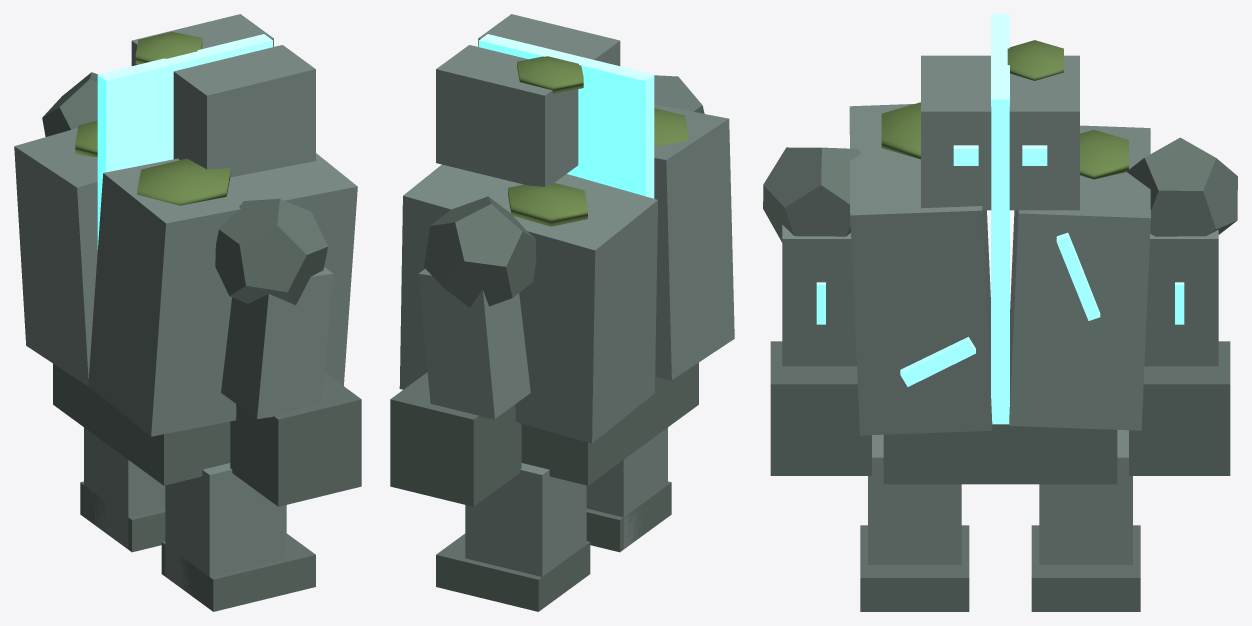
File: enemy_splitter.glb
3 renders of one model, left to right at view 1: azimuth 30°, elevation 25°; view 2: azimuth 150°, elevation 25°; view 3: azimuth 270°, elevation 25°, orthographic. The views are drawn at different scales.
Visible parts, largest first — view 1: torso_l, torso_r, head_l, fist_l, arm_l_mesh, leg_l_mesh, crack_main, arm_l_shoulder, hips, leg_r_mesh, foot_l, moss_0 (+5 smaller); view 2: torso_r, torso_l, head_r, fist_r, arm_r_mesh, crack_main, leg_r_mesh, arm_r_shoulder, hips, foot_r, leg_l_mesh, head_l (+5 smaller); view 3: torso_l, torso_r, hips, fist_r, fist_l, head_l, head_r, arm_l_mesh, arm_r_mesh, leg_r_mesh, leg_l_mesh, crack_main (+9 smaller).
Boxes of the visible parts, x1,y1,x2,y2 form: torso_l: (88, 153, 357, 436); torso_r: (14, 128, 97, 386); head_l: (173, 45, 315, 177); fist_l: (230, 372, 361, 506); arm_l_mesh: (221, 267, 333, 418); leg_l_mesh: (165, 463, 286, 594); crack_main: (97, 34, 272, 249); arm_l_shoulder: (215, 198, 327, 305); hips: (53, 363, 230, 485); leg_r_mesh: (84, 427, 165, 549); foot_l: (161, 533, 315, 611); moss_0: (137, 158, 230, 205); torso_r: (399, 164, 657, 443); torso_l: (654, 104, 734, 380); head_r: (436, 45, 578, 186); fist_r: (390, 372, 521, 506); arm_r_mesh: (418, 268, 530, 418); crack_main: (479, 34, 654, 198); leg_r_mesh: (465, 463, 586, 576); arm_r_shoulder: (424, 196, 536, 307); hips: (521, 362, 698, 485); foot_r: (436, 533, 590, 611); leg_l_mesh: (586, 427, 667, 549); head_l: (478, 14, 620, 65); torso_l: (849, 104, 992, 435); torso_r: (1009, 125, 1150, 430); hips: (883, 424, 1117, 484); fist_r: (1129, 341, 1230, 475); fist_l: (770, 341, 871, 475); head_l: (921, 55, 991, 210); head_r: (1009, 55, 1079, 210); arm_l_mesh: (782, 225, 856, 366); arm_r_mesh: (1144, 229, 1218, 366); leg_r_mesh: (1039, 430, 1132, 564); leg_l_mesh: (868, 434, 961, 564); crack_main: (991, 14, 1009, 424).
Bounding box in the file's own units: 0.1599 × 0.3735 × 0.3048.
